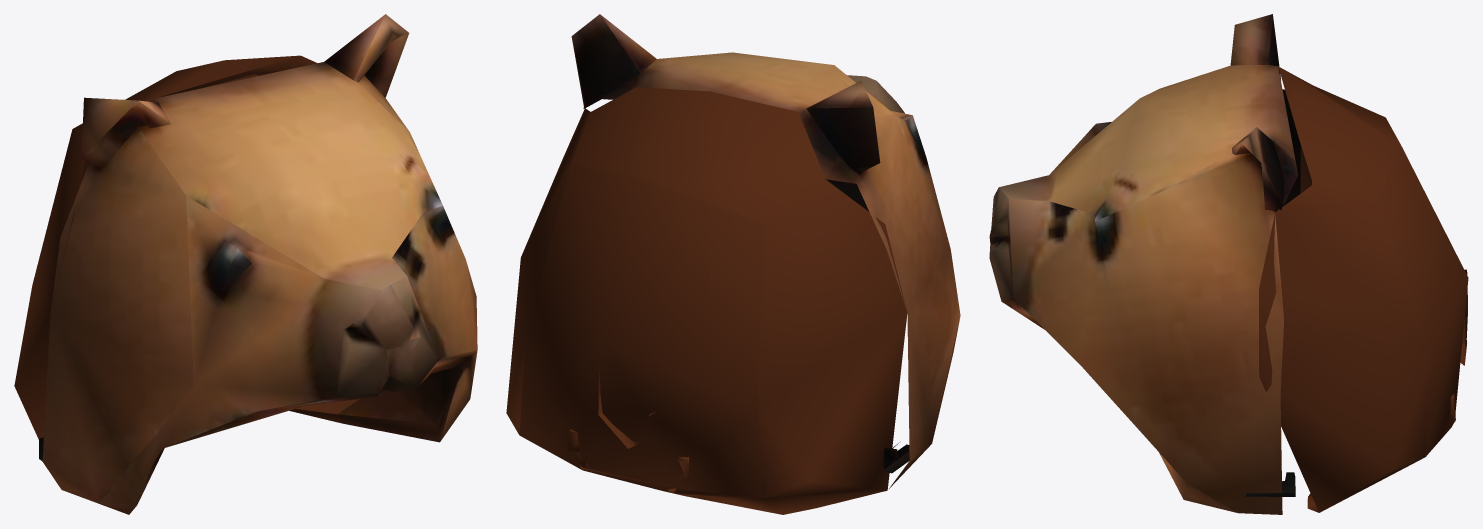
The model's file is capybara.glb.
3 views of the same model, side by side, from view 1: azimuth 30°, elevation 25°; view 2: azimuth 150°, elevation 25°; view 3: azimuth 270°, elevation 25° (orthographic). The views are drawn at different scales.
Visible parts, largest first — view 1: geometry_0; view 2: geometry_0; view 3: geometry_0.
Part boxes in pixels (<box>): geometry_0: <box>14,14,477,514</box>; geometry_0: <box>506,14,960,514</box>; geometry_0: <box>989,14,1468,514</box>.
Size of the model in its own units: 0.4424 by 0.4675 by 0.5222.
Materials: 2 (1 with a texture image).
